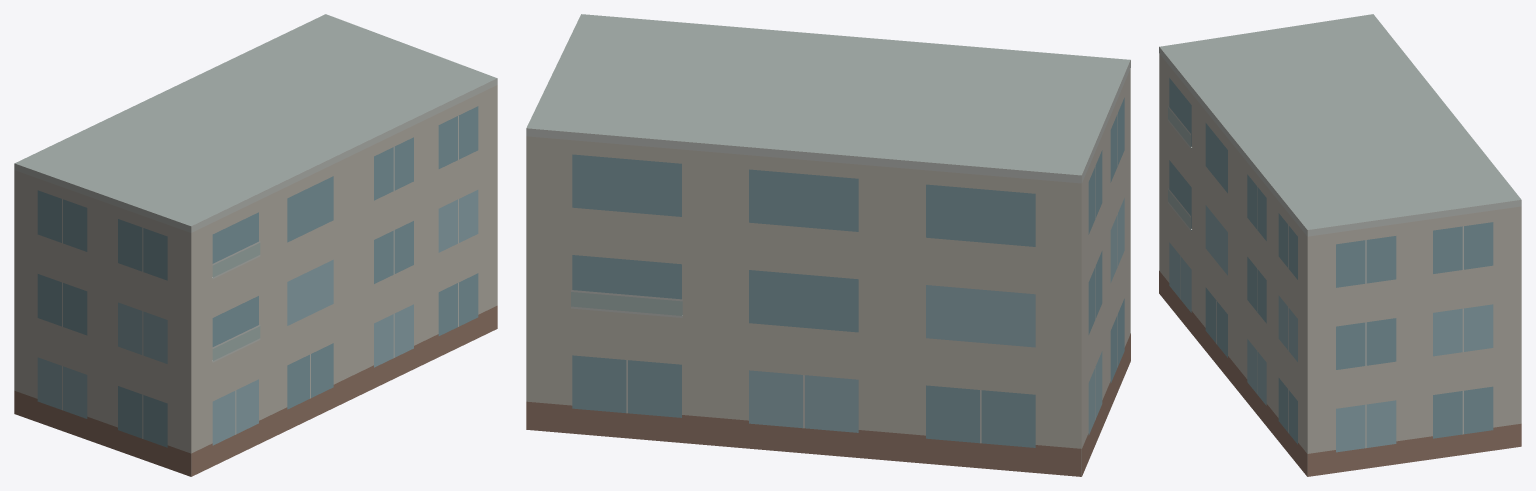
Rendered from survey-upis-32704998.glb.
3 views of the same model, side by side, from view 1: azimuth 30°, elevation 25°; view 2: azimuth 150°, elevation 25°; view 3: azimuth 270°, elevation 25° (orthographic). The views are drawn at different scales.
Parts seen in each view (by area): view 1: survey-upis-32704998.tmp; view 2: survey-upis-32704998.tmp; view 3: survey-upis-32704998.tmp.
Part boxes in pixels (bbox=[...]): survey-upis-32704998.tmp: bbox=[14, 14, 497, 476]; survey-upis-32704998.tmp: bbox=[526, 14, 1130, 476]; survey-upis-32704998.tmp: bbox=[1159, 14, 1521, 476].
Bounding box in the file's own units: 17.19 × 9.15 × 12.19.
